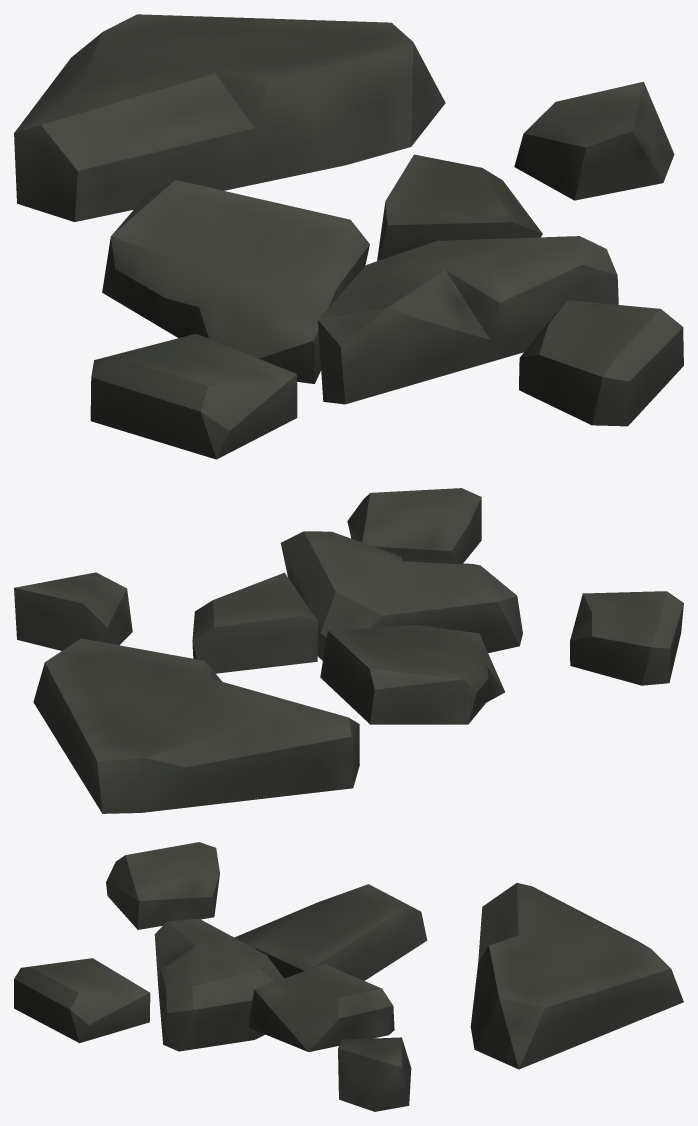
Rendered from Floor4.fbx.
The picture shows the model from 3 angles, top to bottom: view 1: azimuth 30°, elevation 25°; view 2: azimuth 150°, elevation 25°; view 3: azimuth 270°, elevation 25°; orthographic projection. The views are drawn at different scales.
Parts seen in each view (by area): view 1: Floor4; view 2: Floor4; view 3: Floor4.
Part boxes in pixels (x1,y1,x2,y2): Floor4: [14, 14, 683, 459]; Floor4: [14, 488, 683, 813]; Floor4: [14, 842, 683, 1111].
Bounding box in the file's own units: 203 × 36.7 × 246.
Materials: 1 (1 with a texture image).
